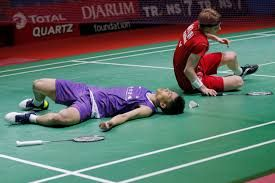fall: (167, 4, 262, 99)
